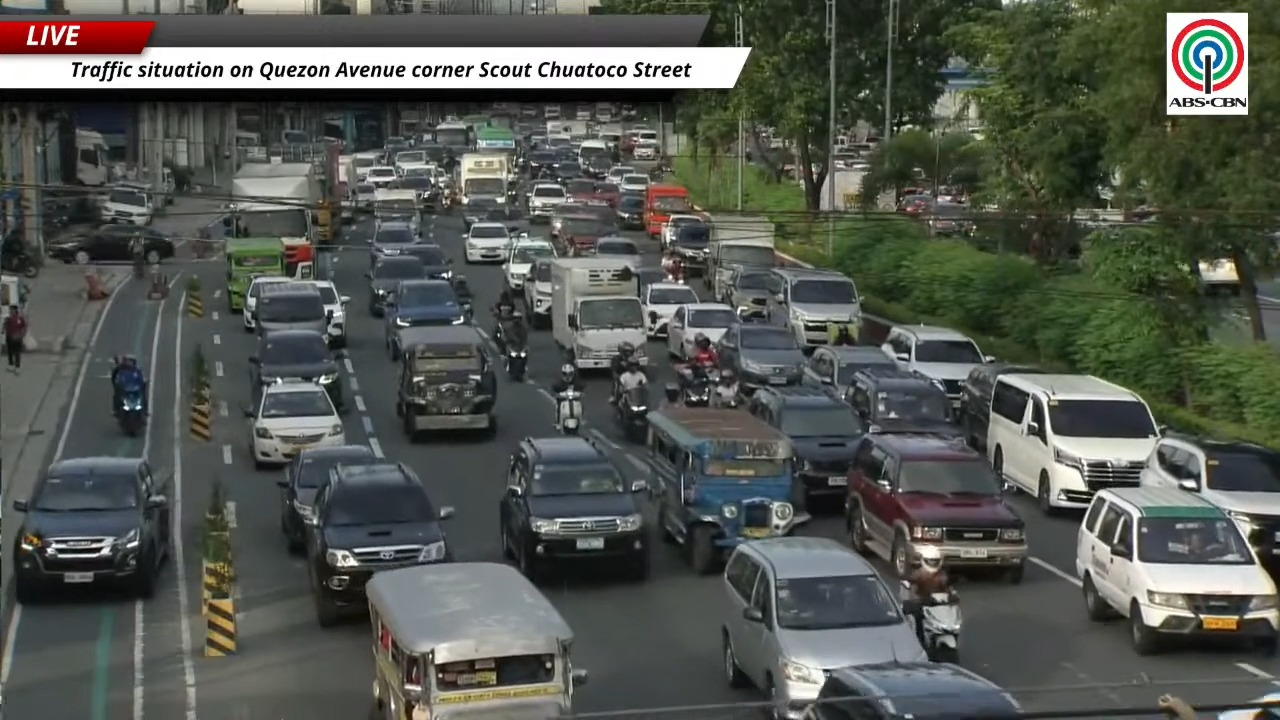bus: (475, 126, 516, 152)
car: (718, 536, 925, 717), (1075, 487, 1279, 654), (846, 434, 1026, 582), (986, 373, 1160, 514), (304, 462, 453, 626), (13, 457, 172, 603), (499, 437, 647, 580), (1140, 433, 1279, 565), (747, 386, 865, 508), (788, 660, 1023, 719), (396, 325, 496, 440), (277, 445, 382, 552), (881, 326, 994, 410), (245, 381, 346, 468), (843, 367, 962, 436), (956, 362, 1041, 451), (766, 268, 861, 345), (249, 330, 343, 407), (384, 279, 466, 359), (716, 323, 805, 391), (46, 224, 174, 264), (805, 345, 895, 396), (253, 281, 329, 341), (668, 303, 740, 359), (368, 256, 426, 316), (639, 282, 698, 337), (502, 238, 555, 292), (309, 280, 350, 347), (242, 275, 291, 331), (719, 267, 772, 315), (101, 183, 156, 225), (667, 223, 710, 276), (374, 190, 421, 237), (371, 222, 420, 264), (558, 216, 611, 254), (523, 258, 551, 328), (464, 222, 510, 263), (921, 202, 975, 236), (401, 243, 452, 279), (548, 203, 594, 240), (568, 201, 617, 233), (660, 214, 705, 248), (480, 204, 528, 235), (462, 197, 500, 229), (595, 236, 640, 261), (616, 193, 644, 229), (527, 150, 556, 177), (352, 182, 376, 212), (365, 166, 397, 188), (553, 160, 583, 182), (584, 154, 611, 178), (596, 182, 621, 207), (565, 179, 595, 199), (618, 173, 649, 192), (632, 141, 659, 160), (606, 165, 637, 181)
motorcycle: (919, 593, 962, 663), (615, 385, 649, 442), (0, 239, 39, 278), (117, 388, 144, 436), (492, 312, 522, 353), (556, 388, 582, 435), (682, 374, 711, 406), (504, 344, 527, 381), (713, 385, 741, 408), (132, 254, 146, 280)
truck: (224, 163, 325, 278), (550, 257, 647, 369), (704, 214, 775, 300), (312, 144, 344, 244), (458, 153, 511, 205), (75, 128, 110, 187), (337, 155, 355, 222), (348, 151, 379, 186), (546, 120, 591, 139)
